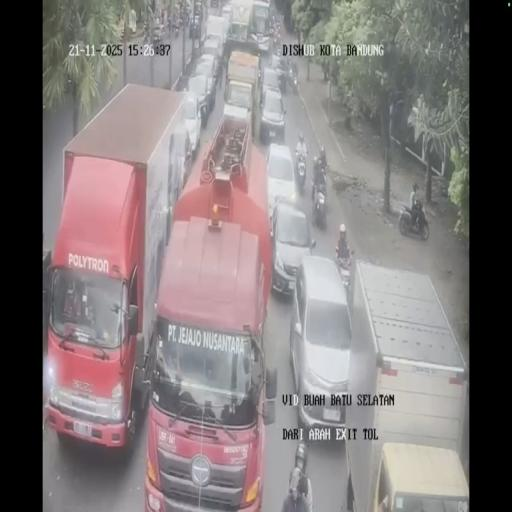car: (290, 257, 352, 437), (265, 141, 297, 221), (222, 81, 255, 137), (186, 73, 213, 133), (260, 86, 286, 142), (202, 35, 222, 72), (221, 3, 233, 30), (189, 13, 201, 39), (269, 51, 282, 71)
motorcycle: (398, 194, 428, 240), (312, 184, 328, 226), (295, 150, 307, 190), (288, 58, 298, 92), (272, 21, 282, 50), (277, 66, 287, 94), (172, 10, 182, 33)
truck: (246, 0, 272, 55)
